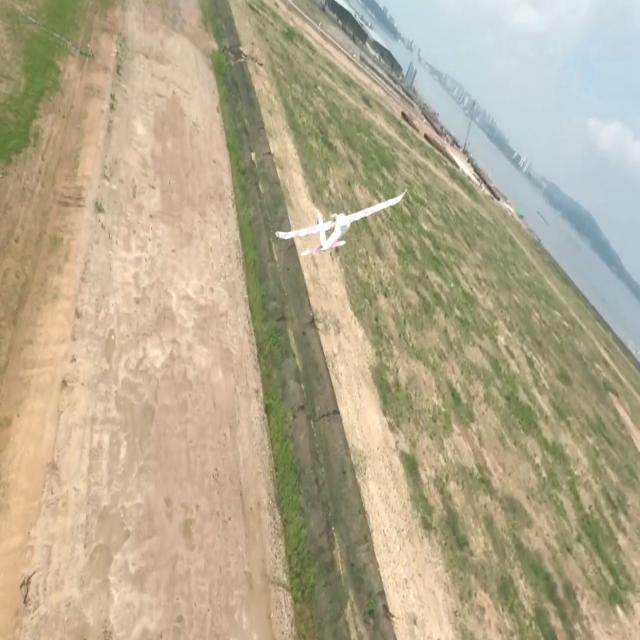iha: (266, 200, 419, 244)
